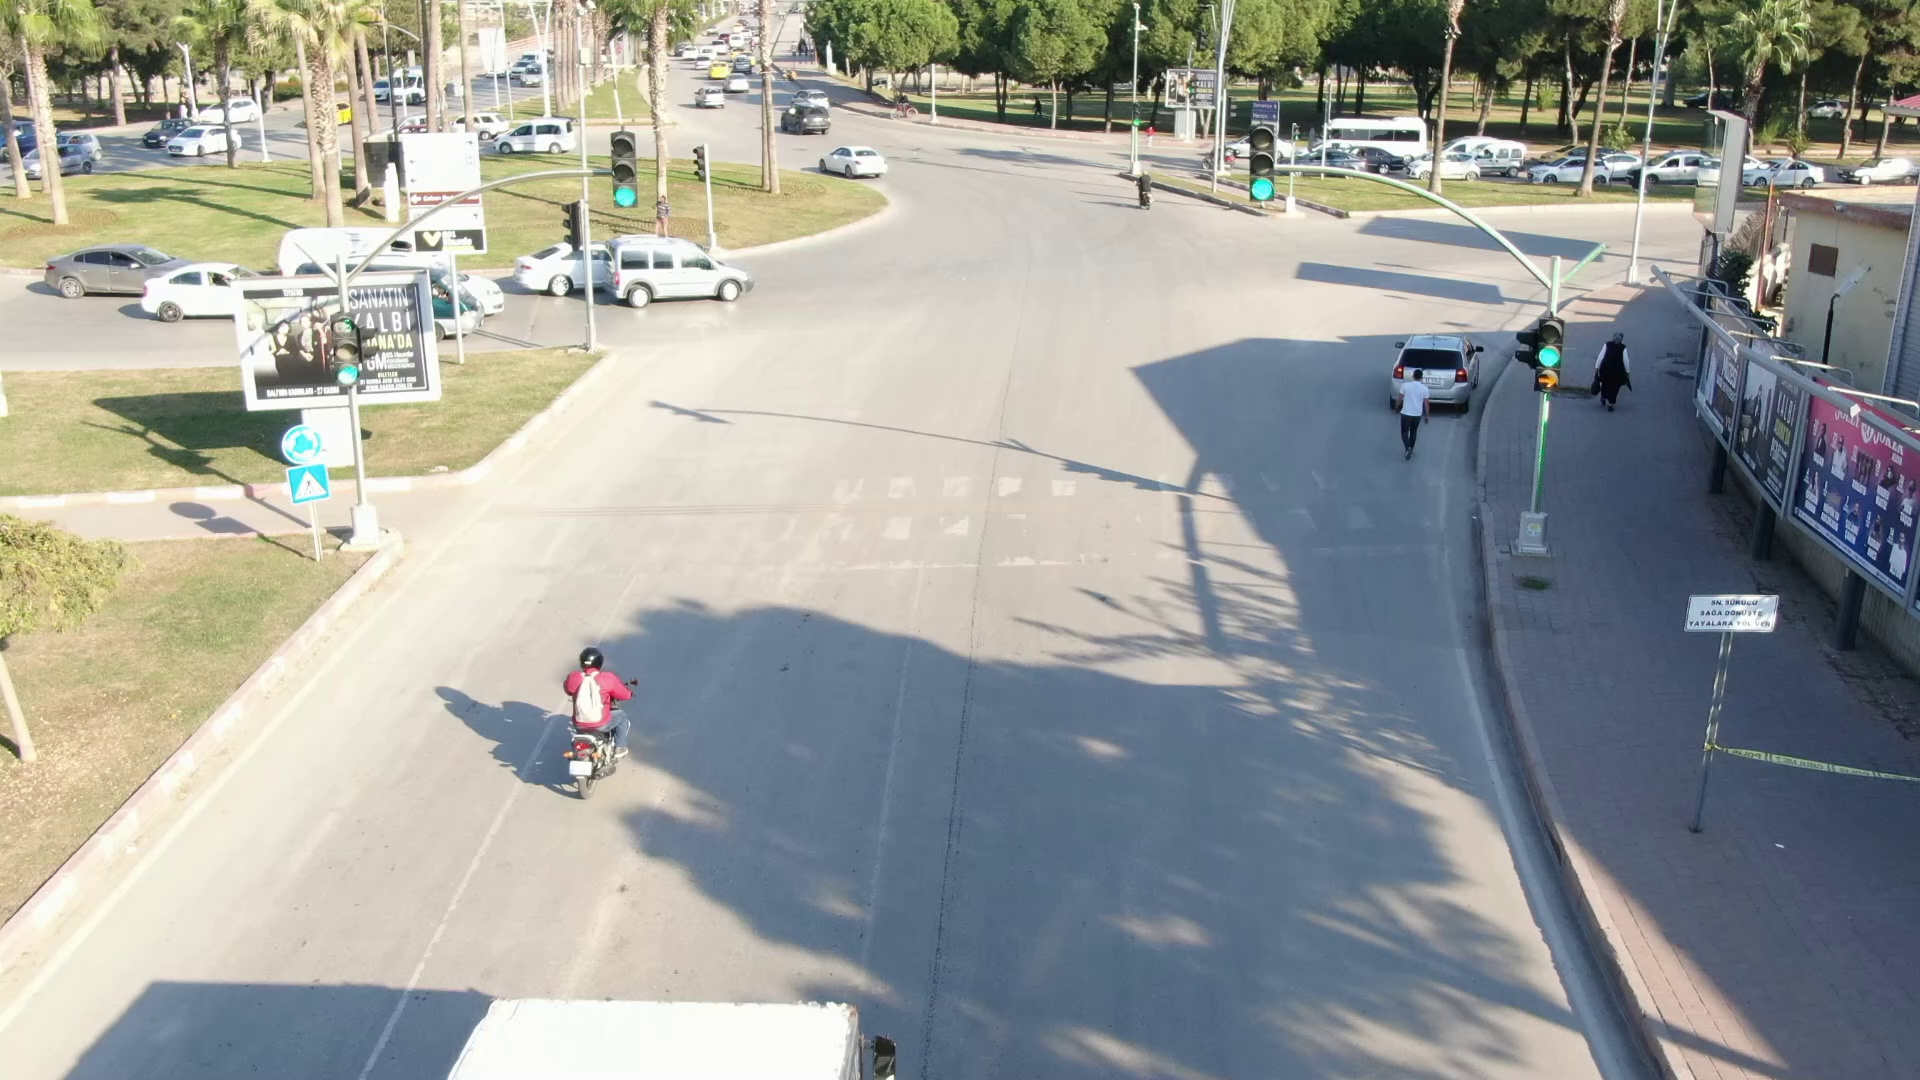car: (605, 228, 757, 309), (45, 238, 190, 301), (140, 258, 264, 321), (1525, 153, 1622, 190), (492, 118, 579, 157), (1837, 149, 1919, 188), (1739, 154, 1825, 191), (816, 141, 891, 181), (164, 123, 235, 159), (775, 99, 841, 139), (196, 94, 268, 127), (693, 82, 728, 111), (720, 67, 753, 95), (705, 59, 731, 78)
person: (547, 629, 645, 798), (1586, 321, 1636, 415), (1393, 365, 1432, 462), (650, 193, 679, 235)
